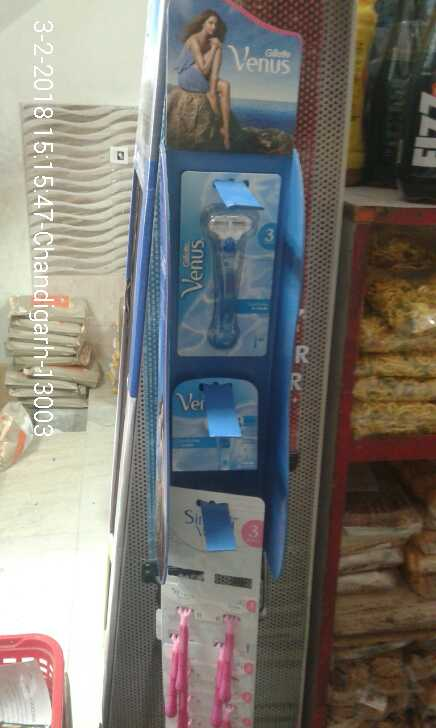venus: (178, 172, 273, 361), (167, 381, 266, 474)
